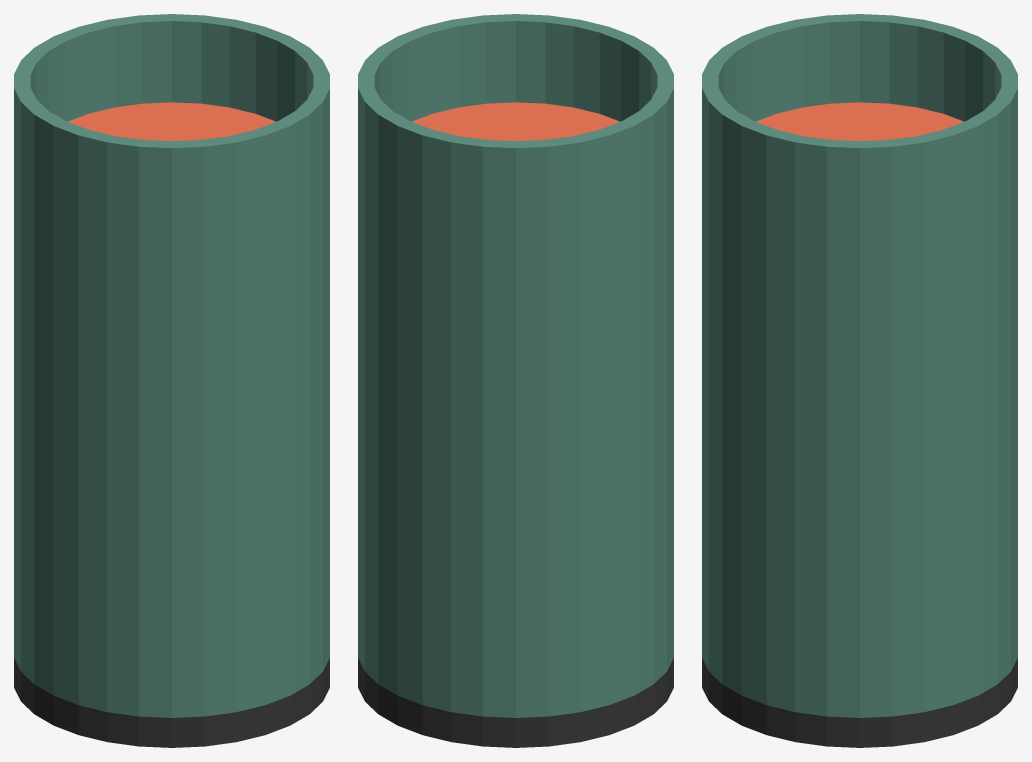
File: Res01_Tumbler2.fbx
3 views of the same model, side by side, from view 1: azimuth 30°, elevation 25°; view 2: azimuth 150°, elevation 25°; view 3: azimuth 270°, elevation 25° (orthographic).
Parts seen in each view (by area): view 1: Res01_Tumbler2; view 2: Res01_Tumbler2; view 3: Res01_Tumbler2.
Boxes of the visible parts, <box> form: Res01_Tumbler2: <box>14,14,329,747</box>; Res01_Tumbler2: <box>358,14,673,747</box>; Res01_Tumbler2: <box>702,14,1017,747</box>.
Bounding box in the file's own units: 30.53 × 63.59 × 30.36.
